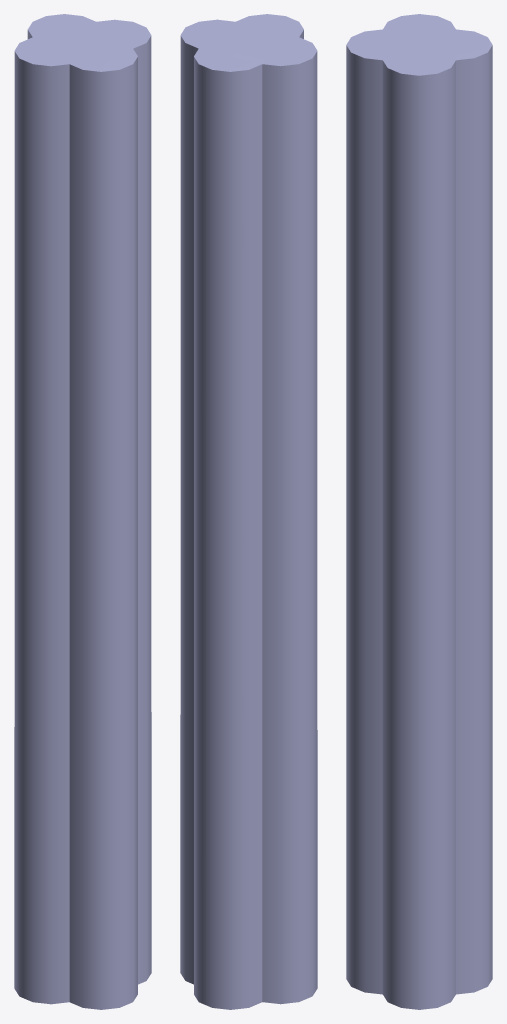
File: Pillar_04_x2_Lod0.fbx
The picture shows the model from 3 angles, left to right: view 1: azimuth 30°, elevation 25°; view 2: azimuth 150°, elevation 25°; view 3: azimuth 270°, elevation 25°; orthographic projection.
Parts seen in each view (by area): view 1: Pillar_04_x2_Lod0; view 2: Pillar_04_x2_Lod0; view 3: Pillar_04_x2_Lod0.
Boxes of the visible parts, x1=… form: Pillar_04_x2_Lod0: x1=14, y1=14, x2=151, y2=1009; Pillar_04_x2_Lod0: x1=180, y1=14, x2=317, y2=1009; Pillar_04_x2_Lod0: x1=346, y1=14, x2=492, y2=1009.
Size of the model in its own units: 85.11 by 600 by 85.23.
